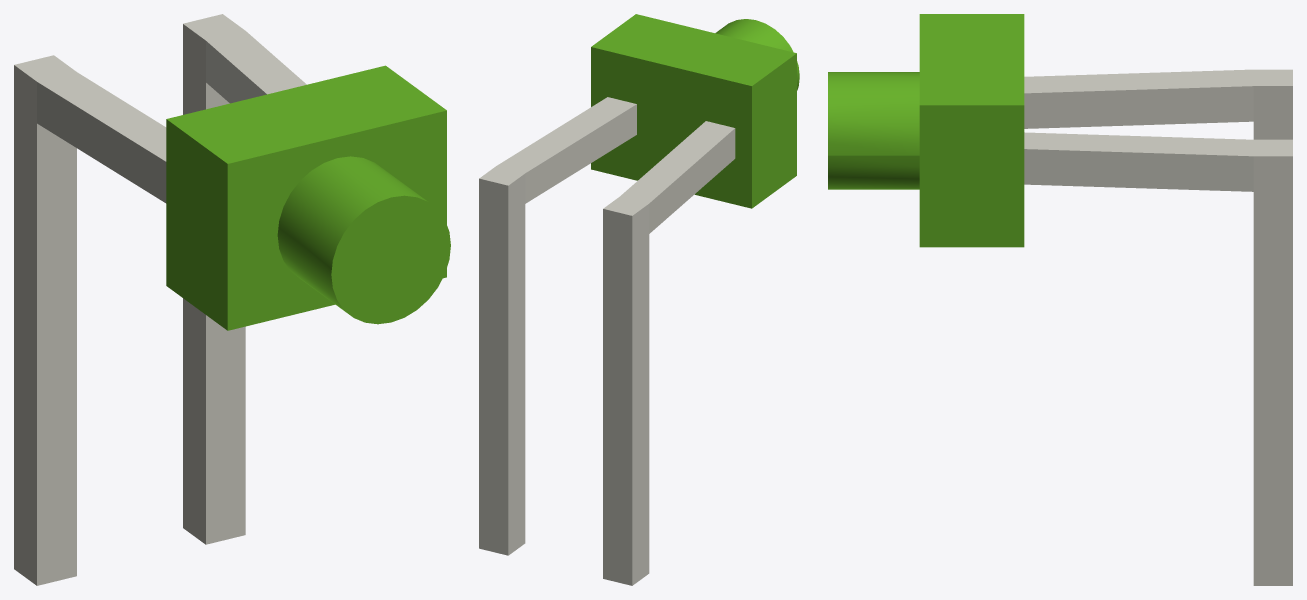
File: kc-led_d1.8mm_w1.8mm_h2.4mm_horizontal_o3.81mm_z4.9mm.glb
The picture shows the model from 3 angles, left to right: view 1: azimuth 30°, elevation 25°; view 2: azimuth 150°, elevation 25°; view 3: azimuth 270°, elevation 25°; orthographic projection. The views are drawn at different scales.
Parts seen in each view (by area): view 1: 0.16666666666666666_0.4166666666666667_0_0, 0.6666666666666666_0.6666666666666666_0.5833333333333334_0.8; view 2: 0.6666666666666666_0.6666666666666666_0.5833333333333334_0.8, 0.16666666666666666_0.4166666666666667_0_0; view 3: 0.6666666666666666_0.6666666666666666_0.5833333333333334_0.8, 0.16666666666666666_0.4166666666666667_0_0.
Boxes of the visible parts, x1,y1,x2,y2 form: 0.16666666666666666_0.4166666666666667_0_0: [166, 65, 450, 330]; 0.6666666666666666_0.6666666666666666_0.5833333333333334_0.8: [14, 14, 306, 585]; 0.6666666666666666_0.6666666666666666_0.5833333333333334_0.8: [479, 97, 735, 585]; 0.16666666666666666_0.4166666666666667_0_0: [591, 14, 799, 208]; 0.6666666666666666_0.6666666666666666_0.5833333333333334_0.8: [1024, 69, 1292, 585]; 0.16666666666666666_0.4166666666666667_0_0: [828, 14, 1024, 247].
Size of the model in its own units: 0.33 by 0.815 by 0.711.
